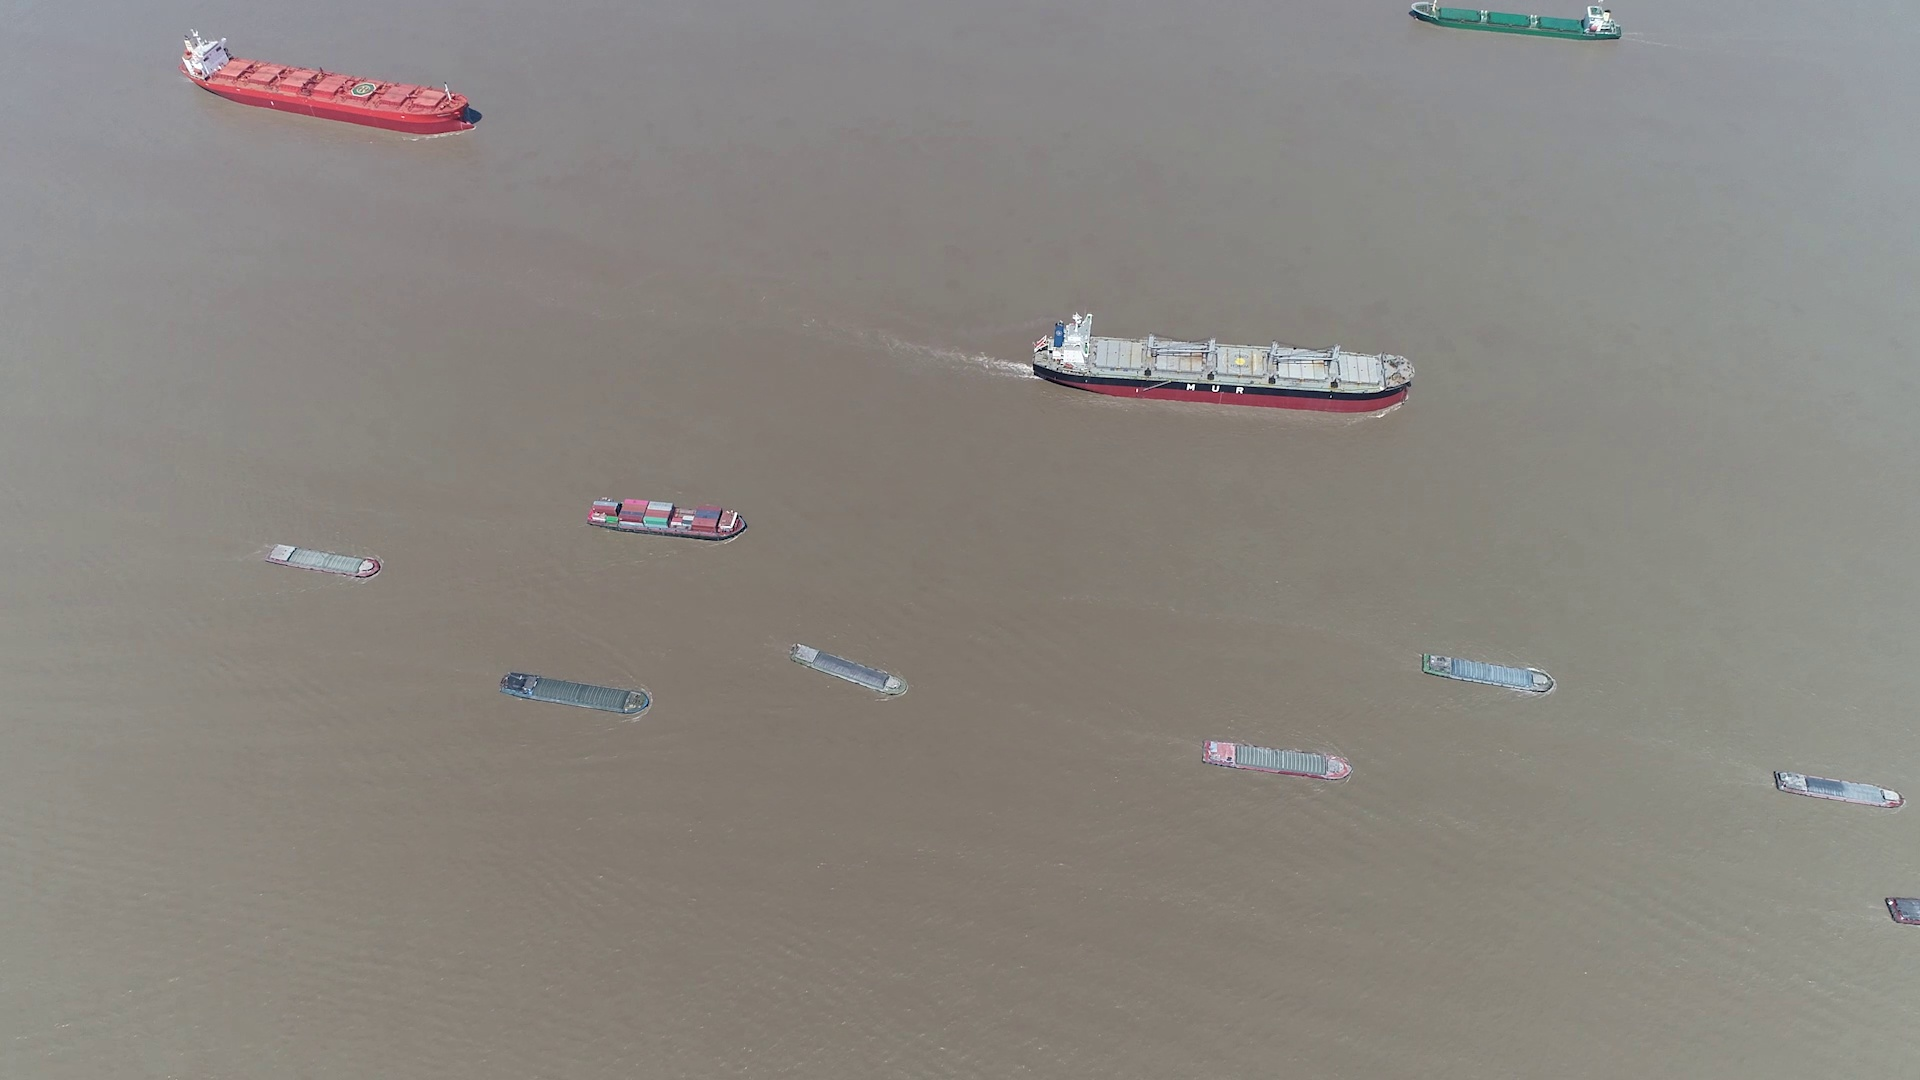ship: (1033, 313, 1414, 411), (183, 26, 479, 135), (1408, 3, 1622, 40), (585, 496, 748, 541), (501, 673, 653, 716), (1203, 738, 1350, 781), (794, 644, 909, 696), (1422, 651, 1553, 694), (1772, 769, 1902, 808), (266, 542, 382, 578), (1884, 898, 1917, 927)
